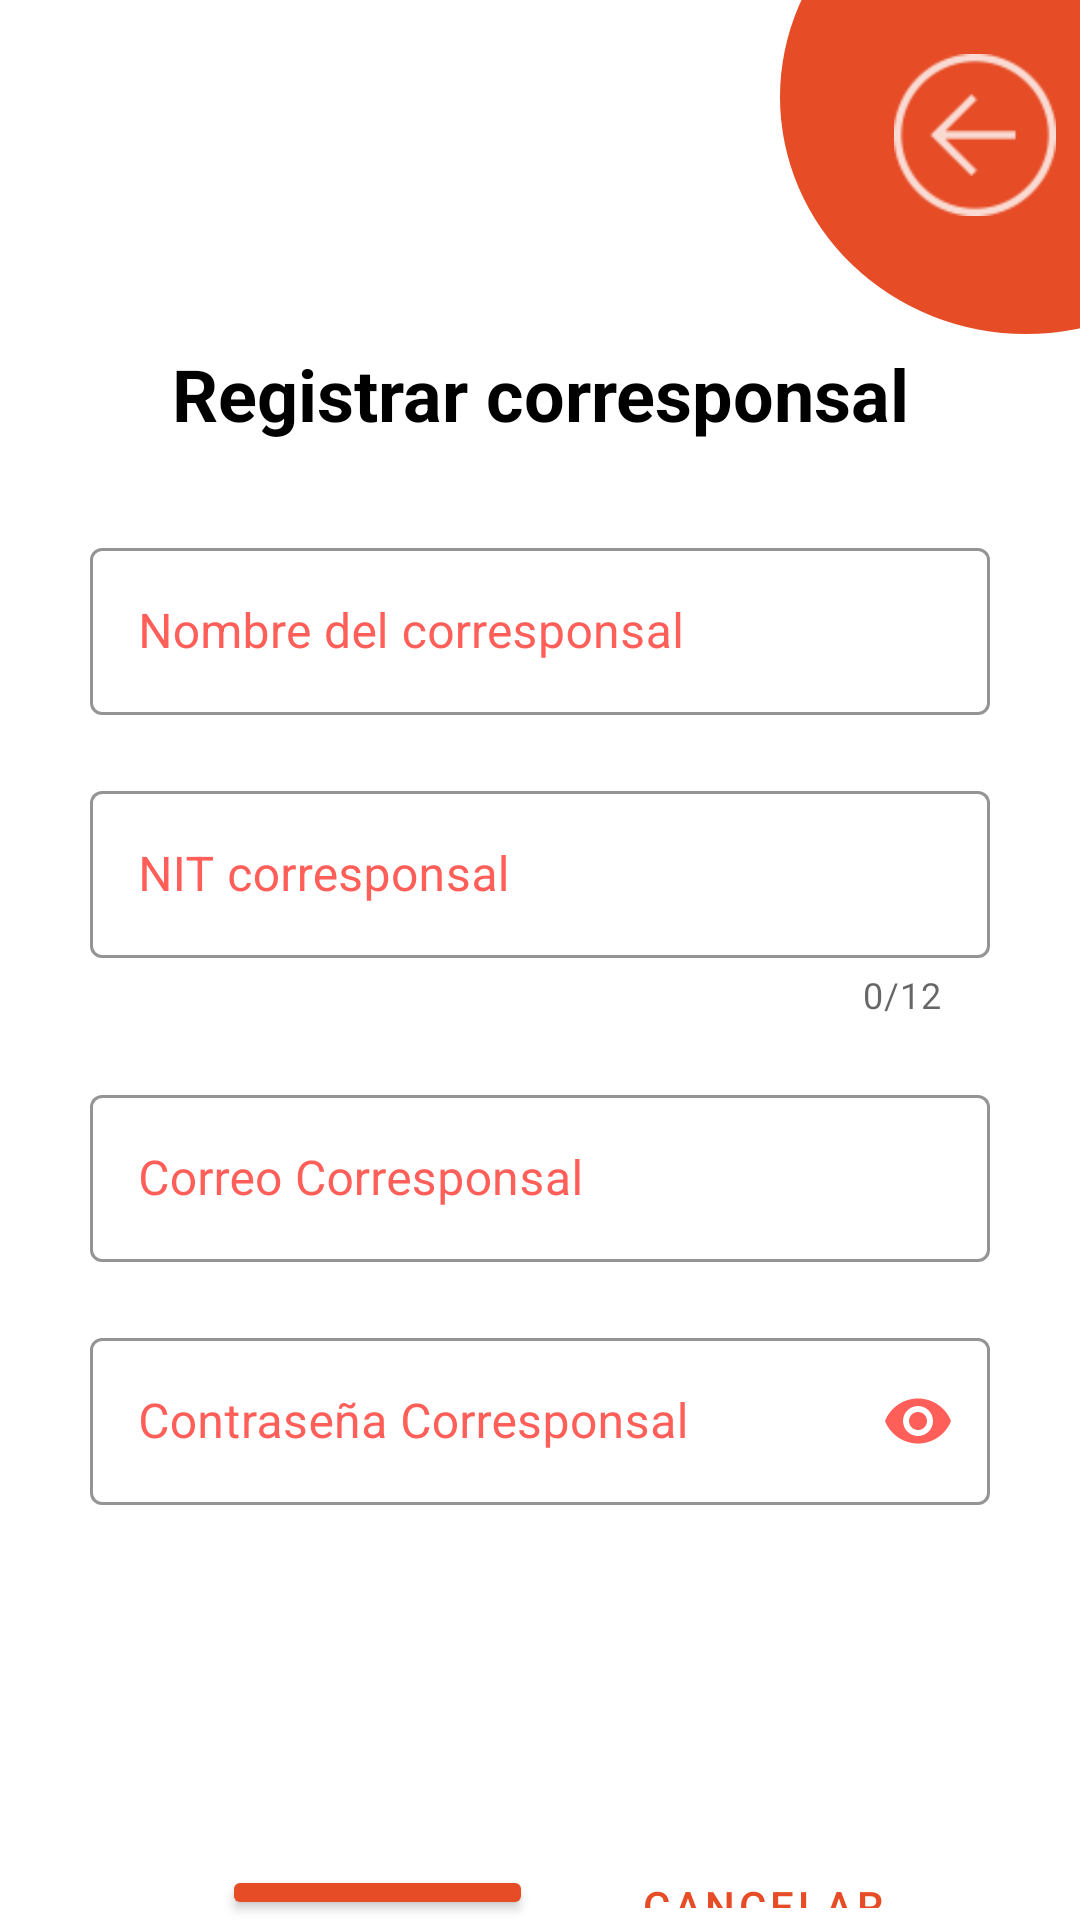

Icon bounding boxes for this 1080 × 1920 phone screenshot, format (x1, y1, x2, y2):
arrowback: (894, 54, 1056, 216)
